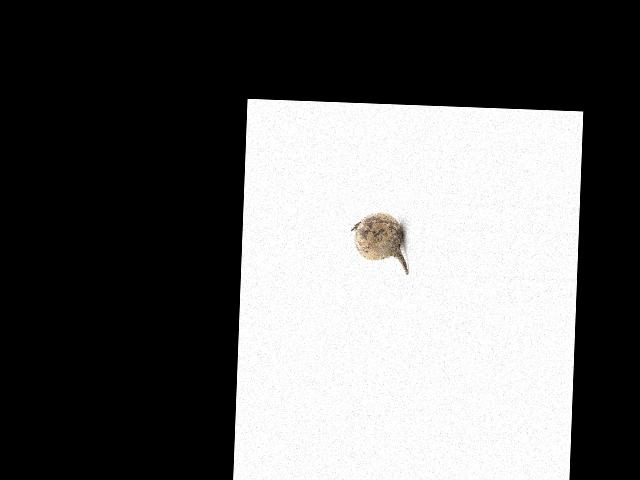beet: (349, 211, 410, 274)
